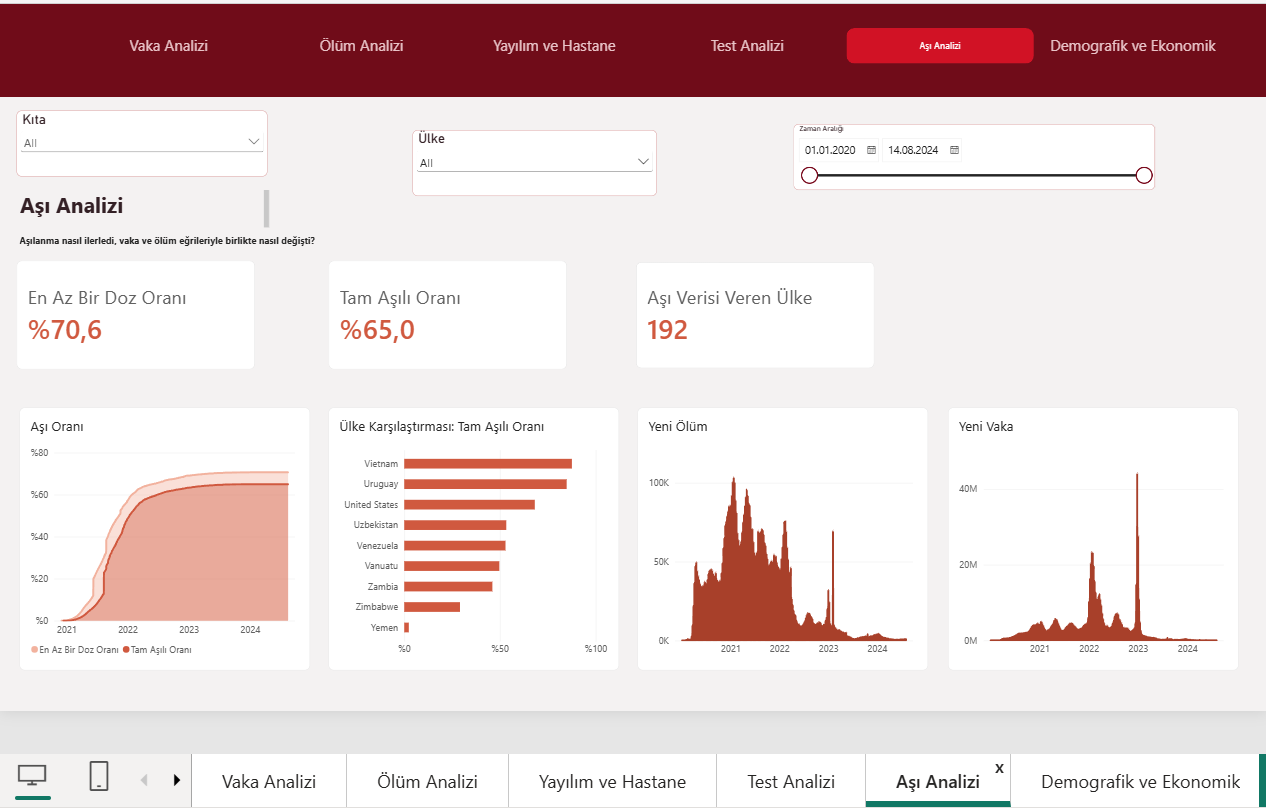

The page's visual inventory and layout, read from the dashboard file:
{"tool":"powerbi","page":{"name":"Aşılama","canvas":[1920,1080],"ordinal":4},"visuals":[{"type":"shape","box":[0,0,1919.3,149.9],"z":0},{"type":"pageNavigator","box":[113.6,45.4,1744.4,54.5],"z":1000}]}

Visuals, with their boxes on the page's 1920x1080 design canvas (x1, y1, x2, y2). These are canvas units, not pixel positions in the 1266x808 screenshot, which may show the page scaled, cropped or inside an application window:
shape: [0, 0, 1919, 150]
pageNavigator: [114, 45, 1858, 100]
